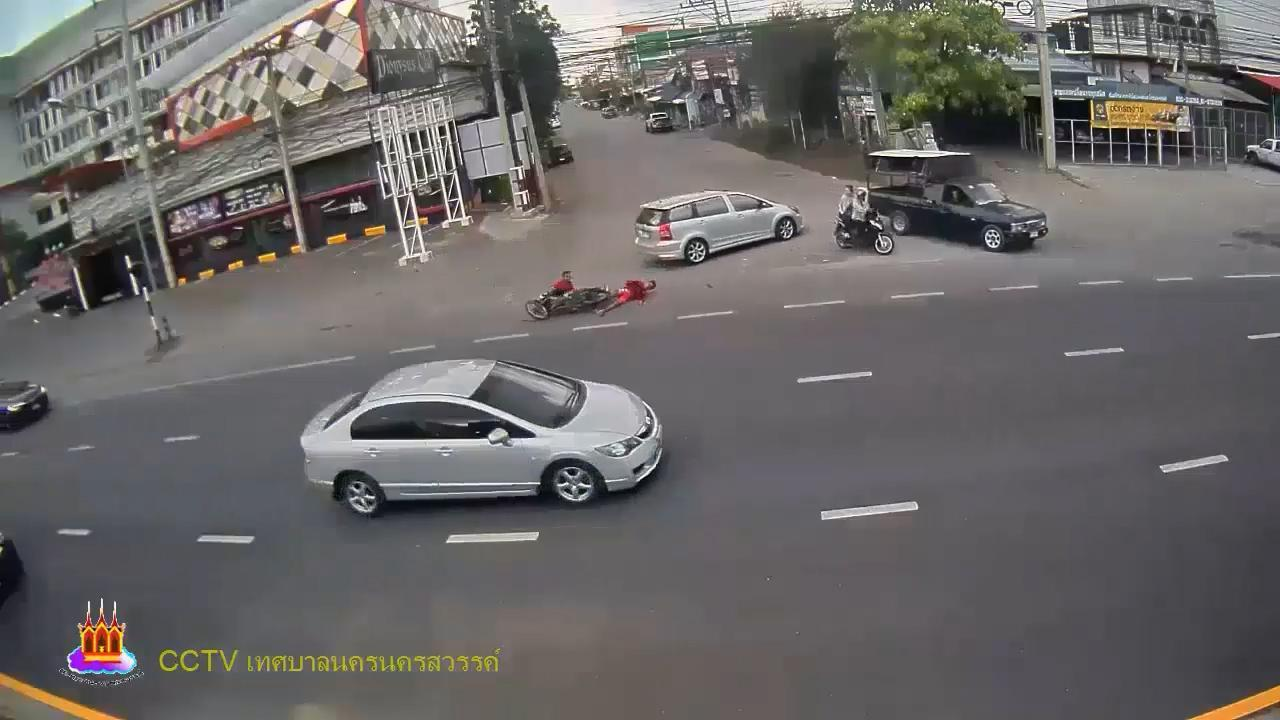accident: (596, 278, 655, 319)
